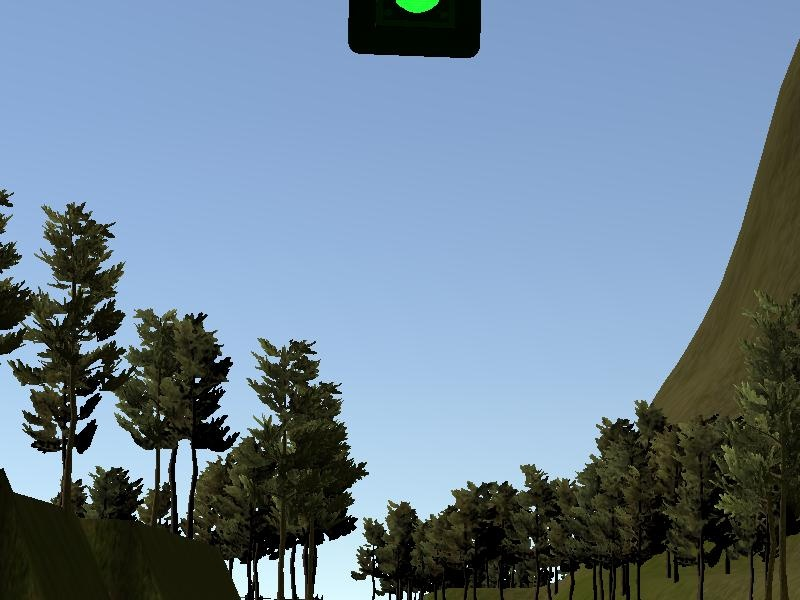traffic_light_green: (2, 2, 800, 59)
